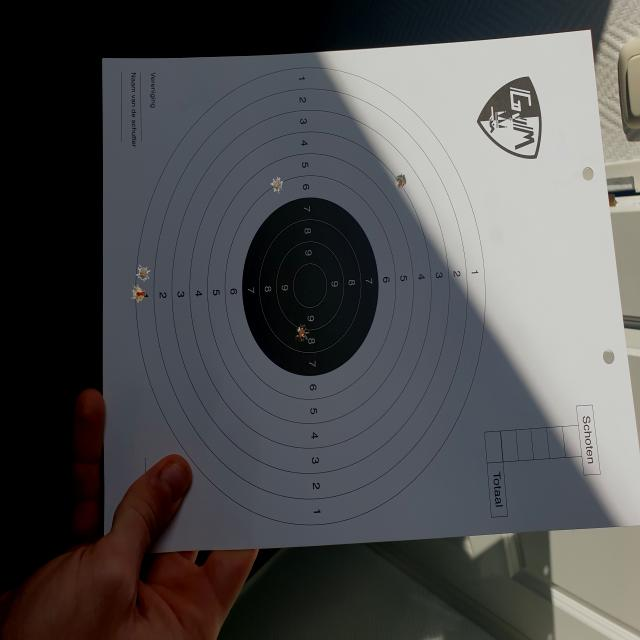1: (132, 284, 146, 304), (136, 264, 151, 282)
4: (396, 173, 406, 190)
6: (270, 177, 284, 194)
9: (295, 324, 309, 342)
Target: (134, 67, 486, 530)
black_contour: (242, 198, 379, 377)
